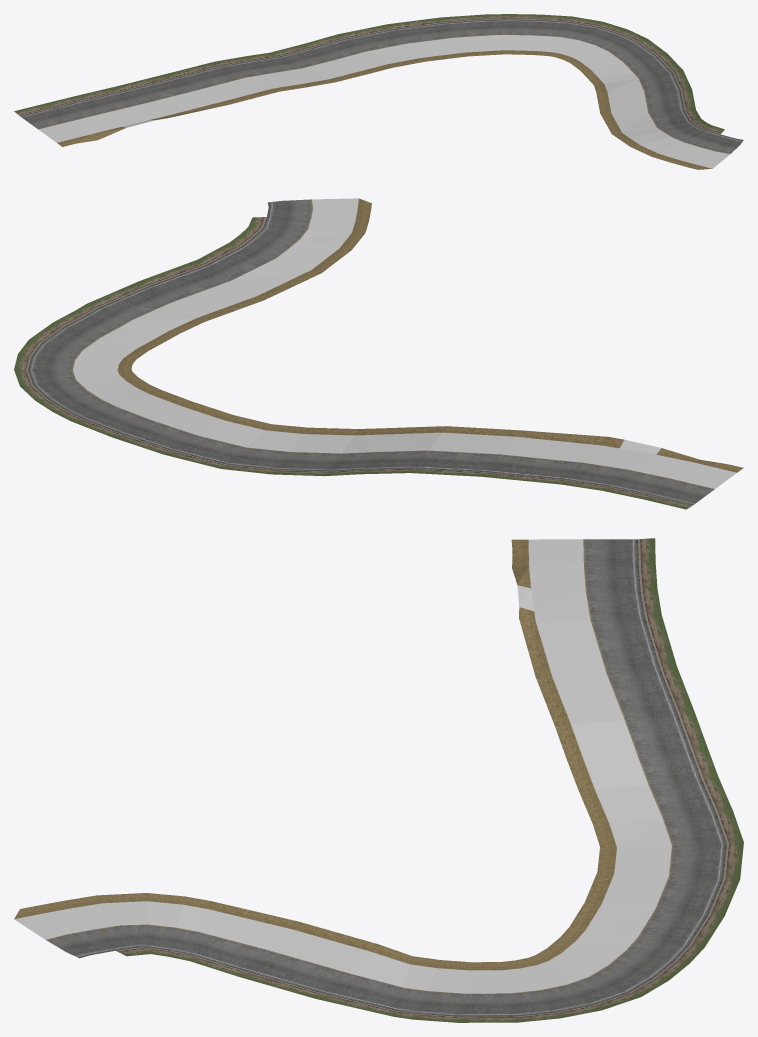
Rendered from tcenwhiltest92.obj.
The picture shows the model from 3 angles, top to bottom: view 1: azimuth 30°, elevation 25°; view 2: azimuth 150°, elevation 25°; view 3: azimuth 270°, elevation 25°; orthographic projection. The views are drawn at different scales.
Visible parts, largest first — view 1: TCEnwhiltest92; view 2: TCEnwhiltest92; view 3: TCEnwhiltest92.
Part boxes in pixels (x1=…): TCEnwhiltest92: x1=14, y1=14, x2=743, y2=169; TCEnwhiltest92: x1=14, y1=198, x2=743, y2=509; TCEnwhiltest92: x1=14, y1=538, x2=743, y2=1022.
Bounding box in the file's own units: 141 × 8.98 × 102.
